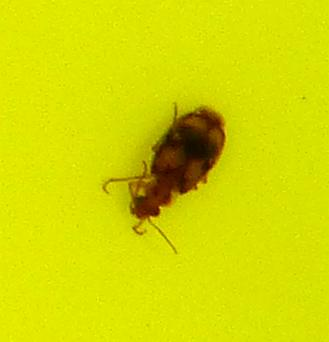Coleoptera: (100, 100, 229, 242)
